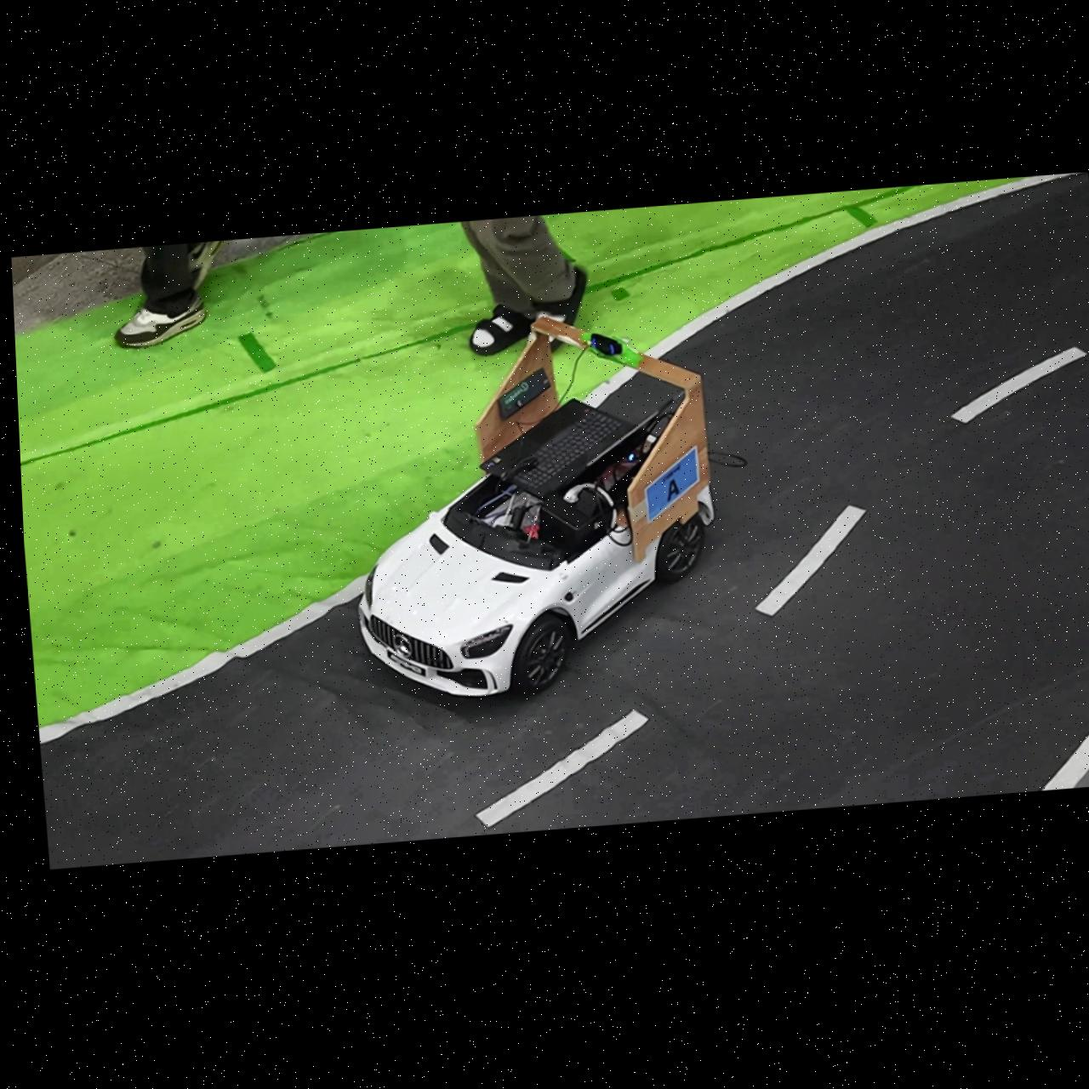broken_line: (476, 709, 648, 825), (756, 504, 866, 616), (951, 347, 1085, 423)
